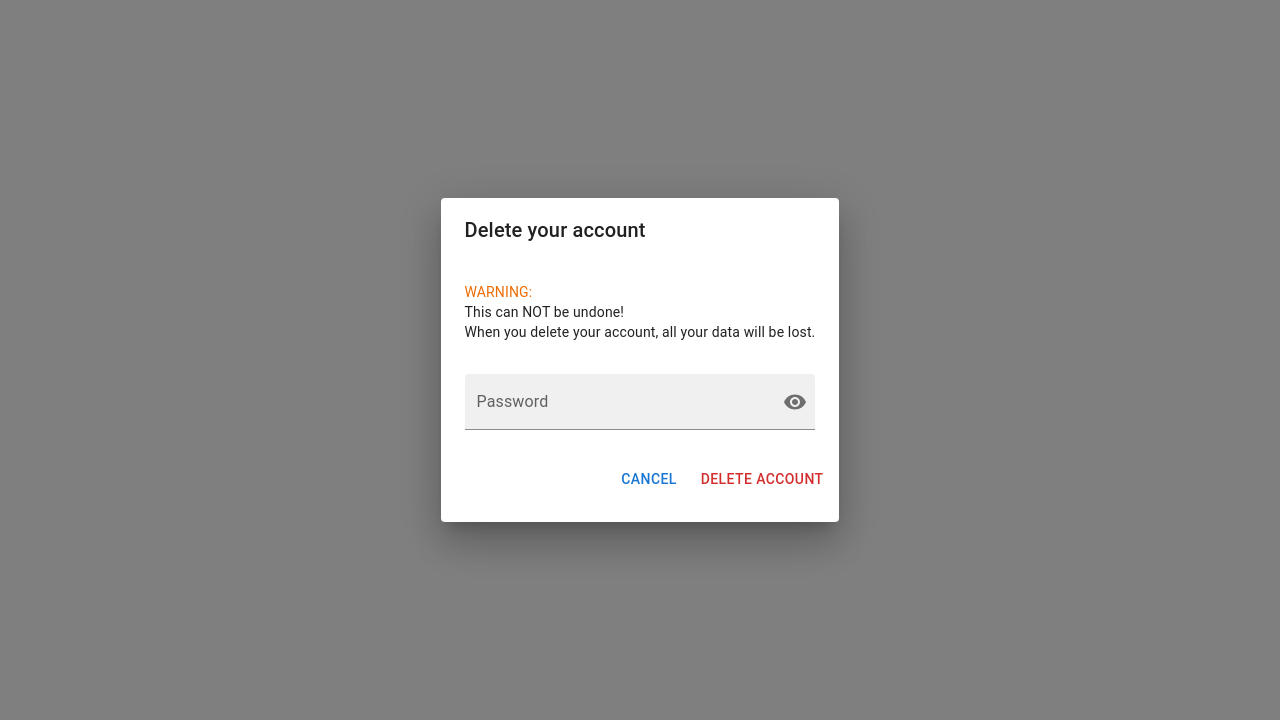
Test case: DeleteAccountDialog: › Tests with requests › Displays error message and stops loading on delete failure.
The width and height of the screenshot is (1280, 720).
User fills input correctly
In the password field with placeholder "Password you logged in": [616, 402] box [464, 374, 768, 430], type "wrong-password"
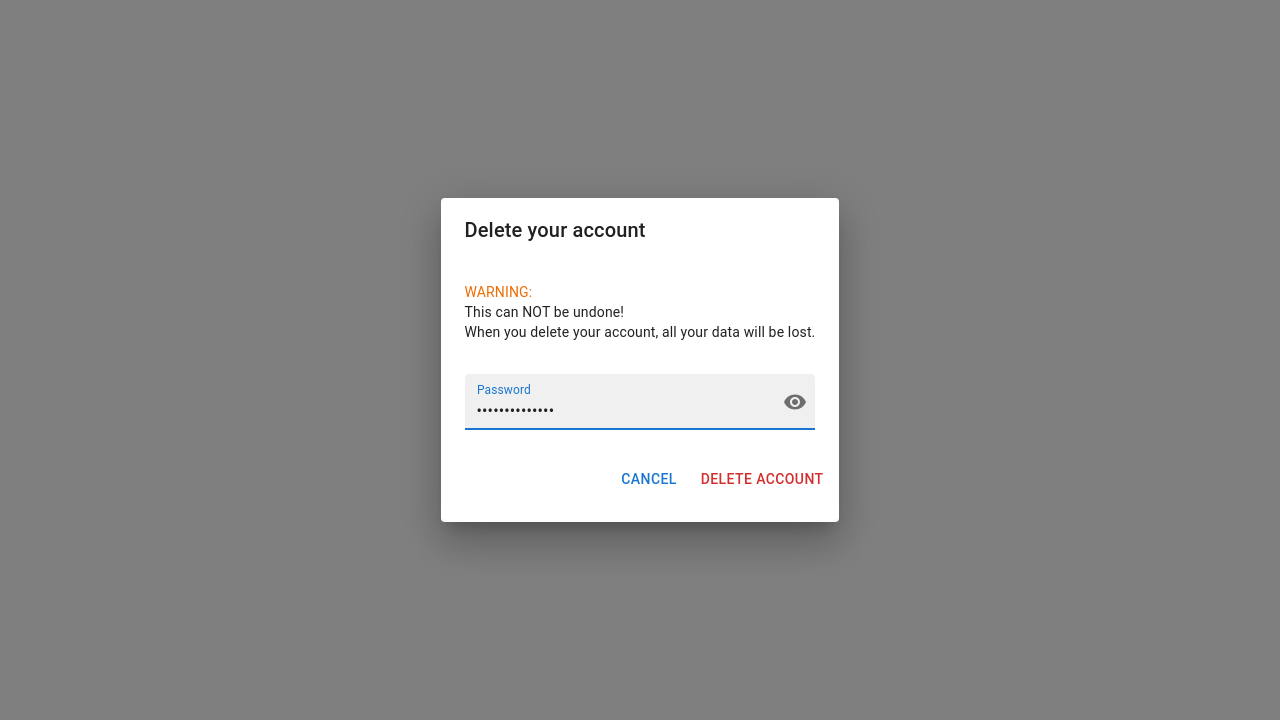
Click the button "Delete Account": [762, 480] box [693, 461, 832, 498]
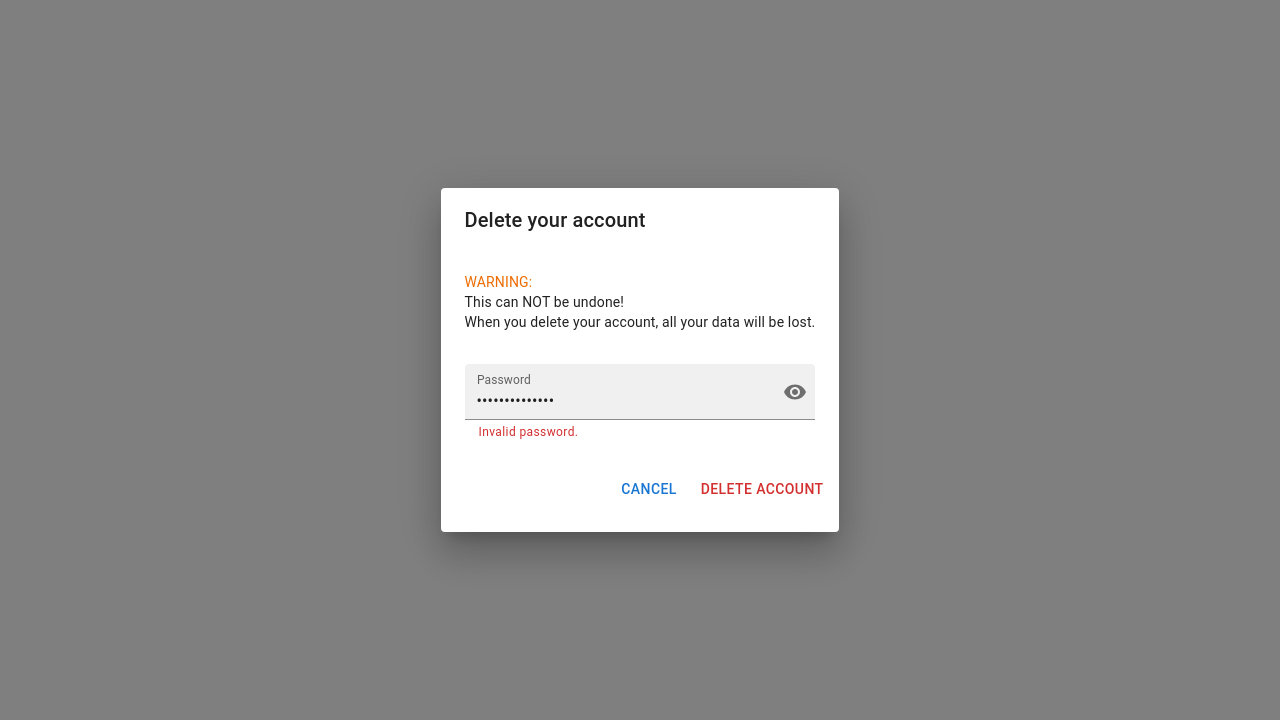
Expected: the button "Delete Account" is enabled, [693, 471, 832, 508]
Result: the text "Invalid password." is shown at [478, 425, 578, 439]
